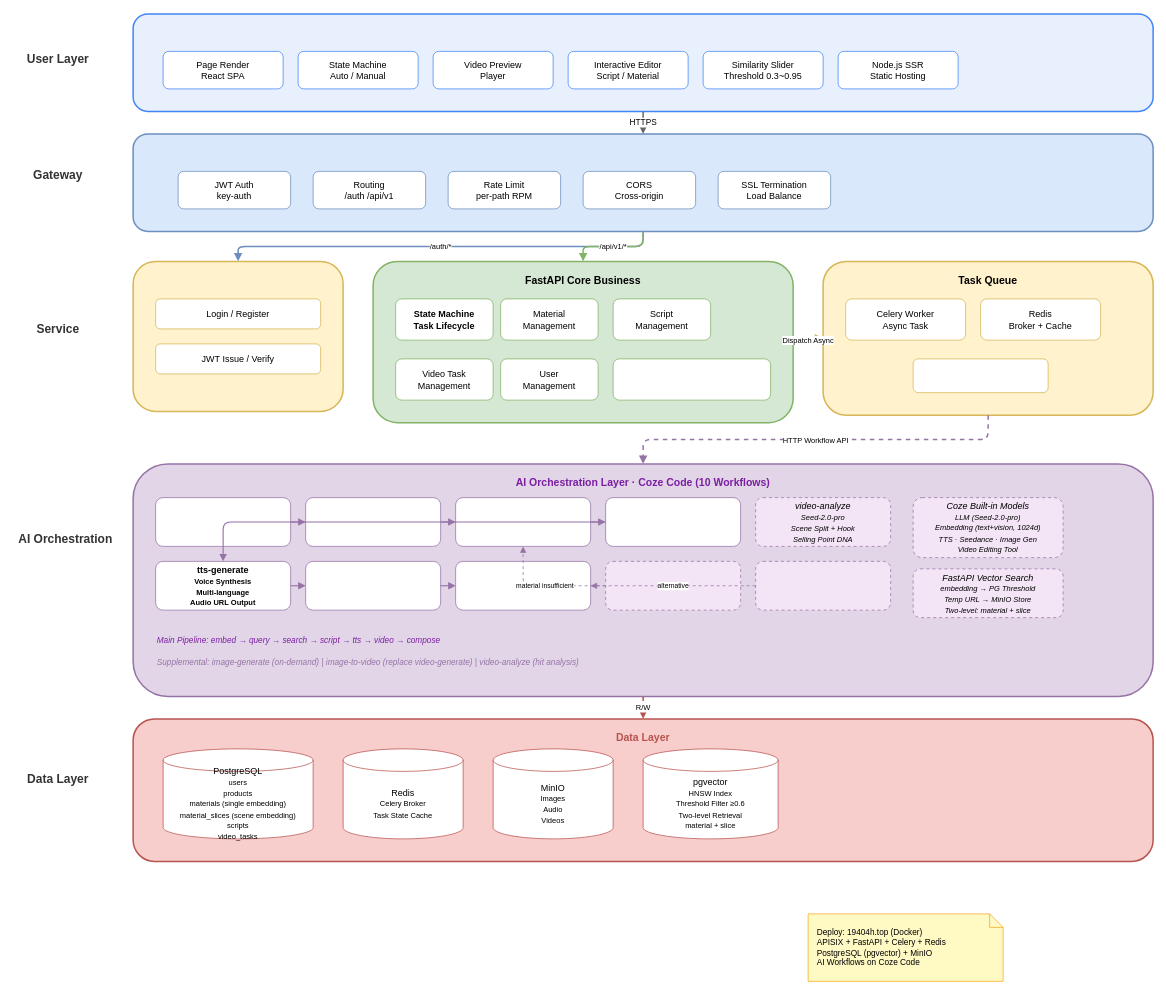
Image size: 1166x995. Some labels were removed from this diagram. Here are the shapes that lost their labels. From the top down, the box of each, then its label:
(132, 13, 1154, 112): User Layer · React + TypeScript + Node.js
(132, 133, 1154, 232): Gateway Layer · APISIX (Apache 2.0)
(132, 260, 344, 412): Auth Service
(612, 358, 771, 400): REST API /api/v1 Auto Docs
(912, 358, 1048, 393): Workflow Callback State Update
(155, 497, 291, 546): material-embed Dual Model (text+vision) Image + Video Input Scene Split + Tags
(305, 497, 441, 546): query-generate Seed-2.0-pro Product + General Query Expansion
(455, 497, 591, 546): material-search Single Embedding 1024d Vision Model Threshold Filter ≥0.6
(605, 497, 741, 546): script-generate Seed-2.0-pro Strategy + Factor Structured JSON
(305, 561, 441, 610): video-generate Seedance-1.5-pro 5s Video + Lip Sync has_speaking
(455, 561, 591, 610): video-compose Built-in Editor Splice + Subtitle + Audio Transition + BGM
(605, 561, 741, 610): image-generate Text-to-Image Product/Scene/BG Supplement Material
(755, 561, 891, 610): image-to-video Seedance-1.5-pro Image + Motion Replace video-generate
